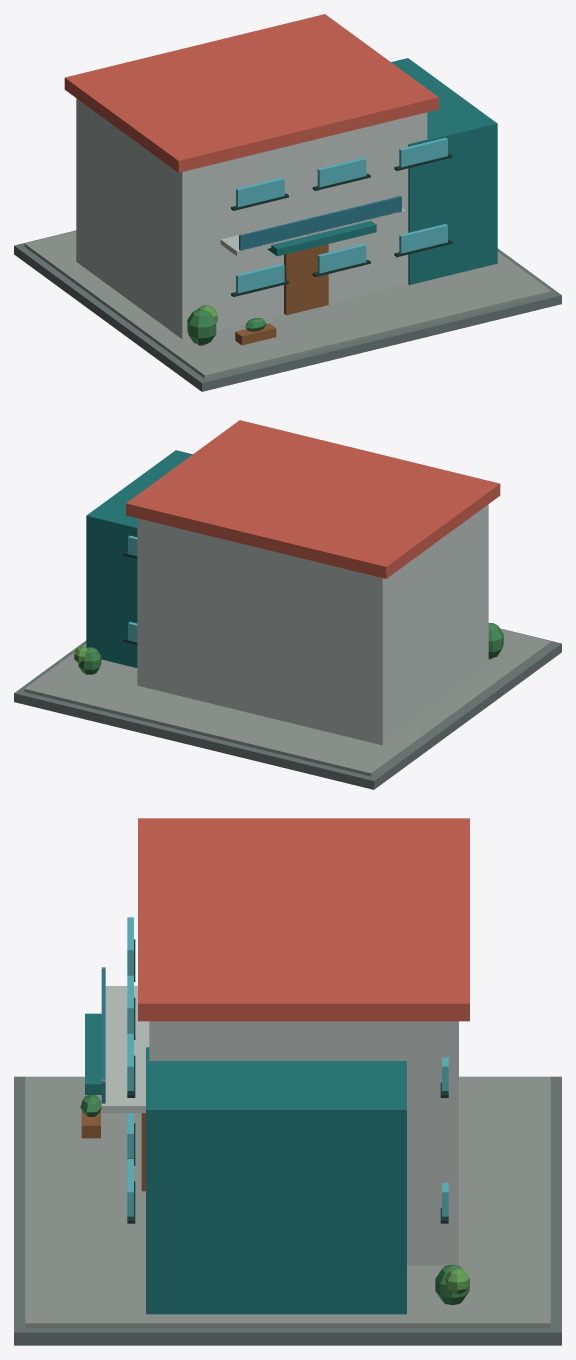
Rendered from house_lv4.glb.
The picture shows the model from 3 angles, top to bottom: view 1: azimuth 30°, elevation 25°; view 2: azimuth 150°, elevation 25°; view 3: azimuth 270°, elevation 25°; orthographic projection. The views are drawn at different scales.
Parts seen in each view (by area): view 1: rough, glossy; view 2: rough; view 3: rough, glossy.
Part boxes in pixels (bbox=[...]): rough: bbox=[14, 14, 561, 391]; glossy: bbox=[236, 137, 447, 293]; rough: bbox=[14, 420, 561, 789]; rough: bbox=[14, 818, 561, 1345]; glossy: bbox=[101, 917, 448, 1216].
Bounding box in the file's own units: 9.4 × 4.87 × 8.5.
